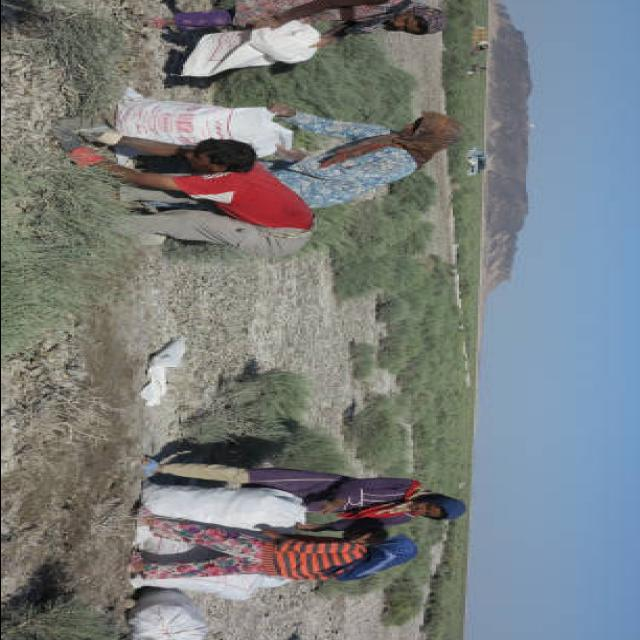civilian: (69, 130, 314, 257), (142, 456, 466, 526), (130, 505, 416, 580), (268, 111, 460, 206), (151, 0, 443, 41)
